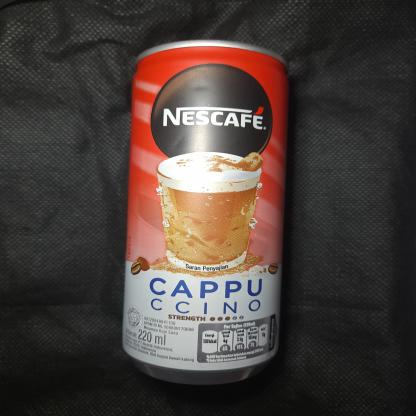mouse: (116, 29, 294, 390)
